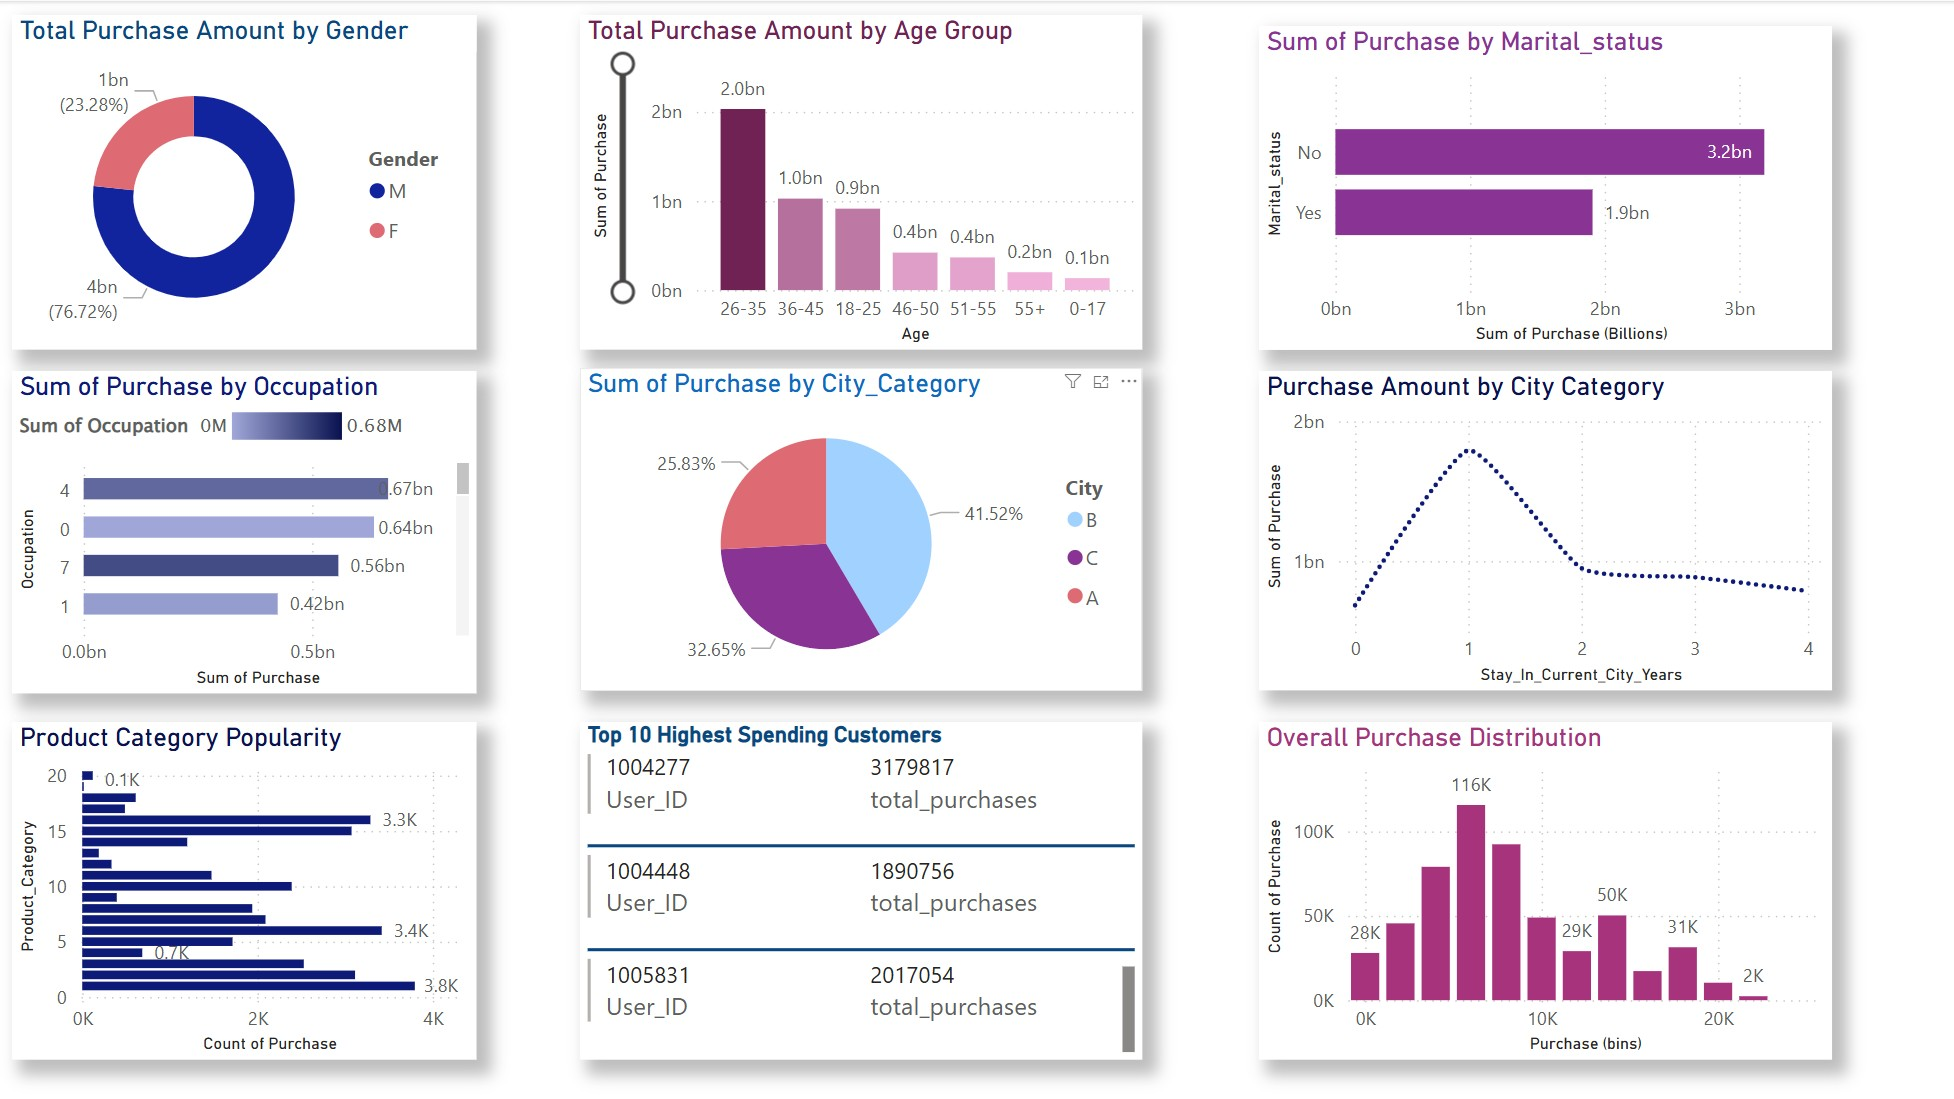

The page's visual inventory and layout, read from the dashboard file:
{"tool":"powerbi","page":{"name":"Page 1","canvas":[1280,720],"ordinal":0},"visuals":[{"type":"donutChart","title":"Total Purchase Amount by Gender","fields":{"Category":["walmart_updated.Gender"],"Y":["Sum(walmart_updated.Purchase)"]},"box":[7.9,9.2,304.3,219.2],"z":0},{"type":"columnChart","title":"Total Purchase Amount by Age Group","fields":{"Category":["walmart_updated.Age"],"Y":["Sum(walmart_updated.Purchase)"]},"box":[379.6,9.2,367.8,219.2],"z":1000},{"type":"clusteredBarChart","fields":{"Category":["walmart_updated.Occupation"],"Y":["Sum(walmart_updated.Purchase)"]},"box":[7.9,242.1,304.3,211.4],"z":2000},{"type":"pieChart","fields":{"Y":["Sum(walmart_updated.Purchase)"],"Category":["walmart_updated.City_Category"]},"box":[379.6,240.2,367.8,211.4],"z":3000},{"type":"clusteredBarChart","fields":{"Category":["walmart_updated.Marital_status"],"Y":["Sum(walmart_updated.Purchase)"]},"box":[823.9,16.4,375,212],"z":4000},{"type":"lineChart","title":"Purchase Amount by City Category","fields":{"Y":["Sum(walmart_updated.Purchase)"],"Category":["walmart_updated.Stay_In_Current_City_Years"]},"box":[823.9,242.1,375,209.4],"z":5000},{"type":"barChart","title":"Product Category Popularity","fields":{"Category":["walmart_updated.Product_Category"],"Y":["Count(walmart_updated.Purchase)"]},"box":[7.9,471.8,304.3,221.2],"z":6000},{"type":"multiRowCard","title":"Top 10 Highest Spending Customers","fields":{"Values":["walmart_subquery_totalpurchases.User_ID","walmart_subquery_totalpurchases.total_purchases"]},"box":[379.6,471.8,367.8,221.2],"z":7000},{"type":"columnChart","title":"Overall Purchase Distribution","fields":{"Category":["walmart_updated.Purchase (bins)"],"Y":["CountNonNull(walmart_updated.Purchase)"]},"box":[823.9,471.8,375,221.2],"z":8000}]}

Visuals, with their boxes in screenshot pixels (x1, y1, x2, y2), scaled from the page's 1280x720 canvas onto the 1954x1099 screenshot:
"Total Purchase Amount by Gender" donutChart: {"x1": 12, "y1": 14, "x2": 477, "y2": 349}
"Total Purchase Amount by Age Group" columnChart: {"x1": 579, "y1": 14, "x2": 1141, "y2": 349}
clusteredBarChart - walmart_updated.Occupation x Sum(walmart_updated.Purchase): {"x1": 12, "y1": 370, "x2": 477, "y2": 692}
pieChart - Sum(walmart_updated.Purchase) x walmart_updated.City_Category: {"x1": 579, "y1": 367, "x2": 1141, "y2": 689}
clusteredBarChart - walmart_updated.Marital_status x Sum(walmart_updated.Purchase): {"x1": 1258, "y1": 25, "x2": 1830, "y2": 349}
"Purchase Amount by City Category" lineChart: {"x1": 1258, "y1": 370, "x2": 1830, "y2": 689}
"Product Category Popularity" barChart: {"x1": 12, "y1": 720, "x2": 477, "y2": 1058}
"Top 10 Highest Spending Customers" multiRowCard: {"x1": 579, "y1": 720, "x2": 1141, "y2": 1058}
"Overall Purchase Distribution" columnChart: {"x1": 1258, "y1": 720, "x2": 1830, "y2": 1058}
